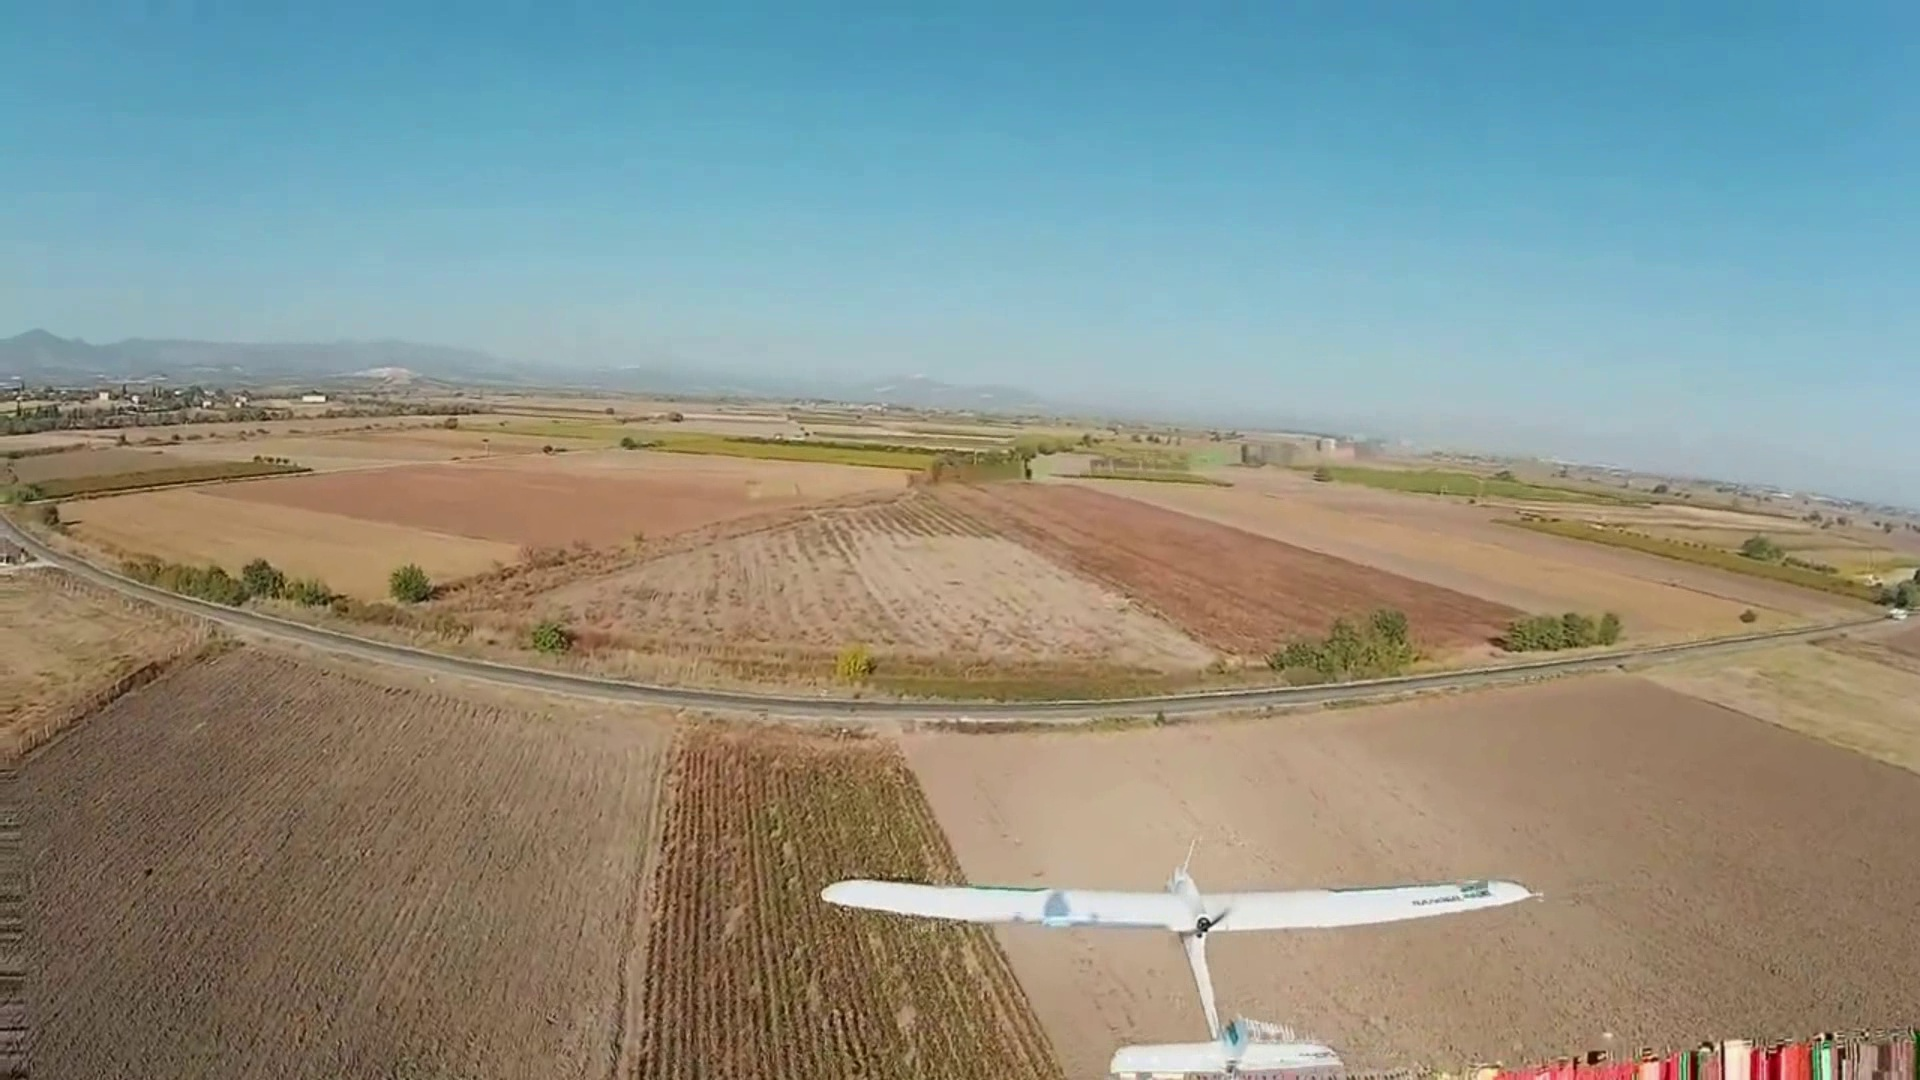airplane: (825, 862, 1540, 1069)
